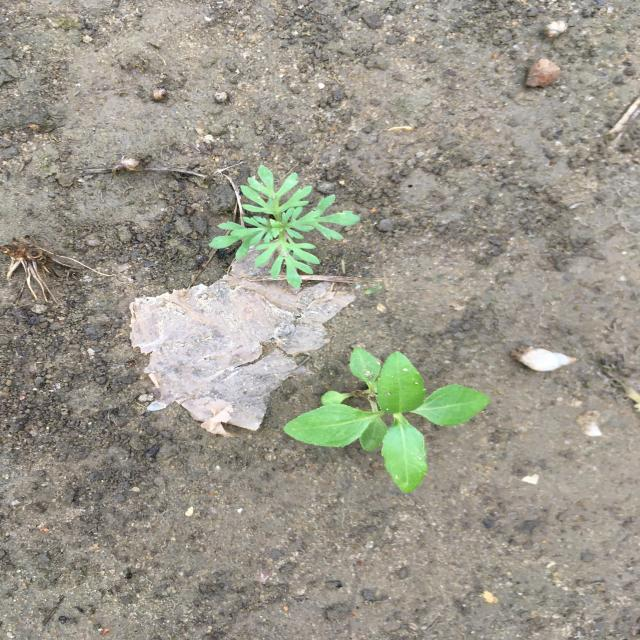Eclipta: (279, 346, 494, 496)
Ragweed: (207, 164, 362, 292)
